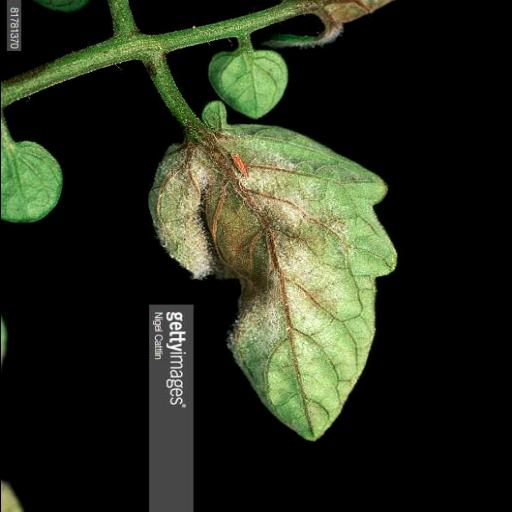Late Blight: (140, 113, 398, 446)
